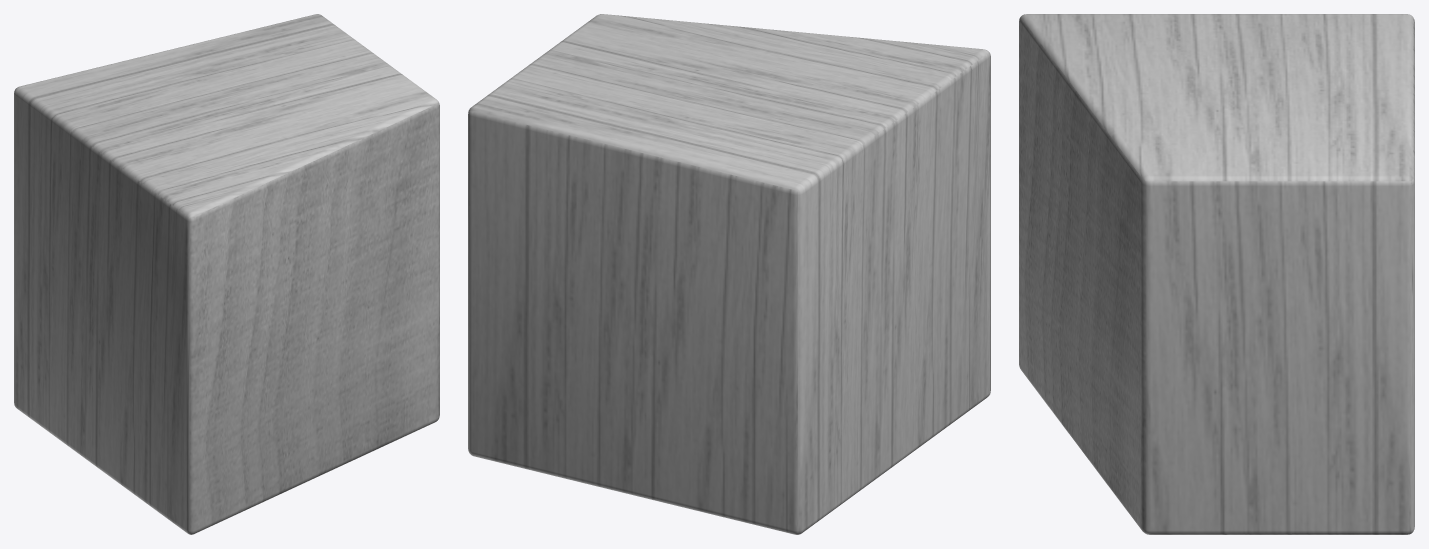
3 renders of one model, left to right at view 1: azimuth 30°, elevation 25°; view 2: azimuth 150°, elevation 25°; view 3: azimuth 270°, elevation 25°, orthographic. The views are drawn at different scales.
Parts seen in each view (by area): view 1: Cubo_optimizado_Export 4.001; view 2: Cubo_optimizado_Export 4.001; view 3: Cubo_optimizado_Export 4.001.
Boxes of the visible parts, left/top/right/bottom form: Cubo_optimizado_Export 4.001: left=14, top=14, right=439, bottom=534; Cubo_optimizado_Export 4.001: left=468, top=14, right=990, bottom=534; Cubo_optimizado_Export 4.001: left=1019, top=14, right=1414, bottom=534.
Size of the model in its own units: 2 by 2 by 2.
1 material, 1 textured.
